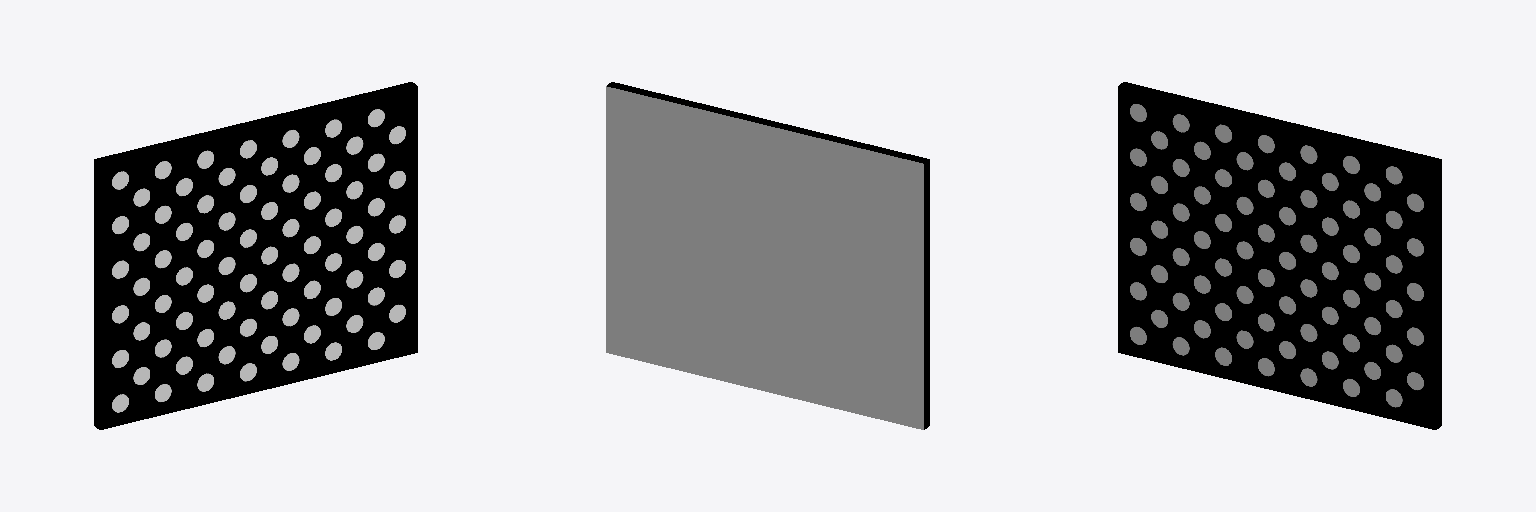
3 renders of one model, left to right at view 1: azimuth 30°, elevation 25°; view 2: azimuth 150°, elevation 25°; view 3: azimuth 330°, elevation 25°, orthographic.
Parts seen in each view (by area): view 1: 立方体; view 2: 立方体; view 3: 立方体.
Boxes of the visible parts, x1=… form: 立方体: x1=94, y1=82, x2=417, y2=429; 立方体: x1=606, y1=82, x2=929, y2=429; 立方体: x1=1118, y1=82, x2=1441, y2=429.
Size of the model in its own units: 0.3 by 0.24 by 0.01.
1 materials, 1 textured.